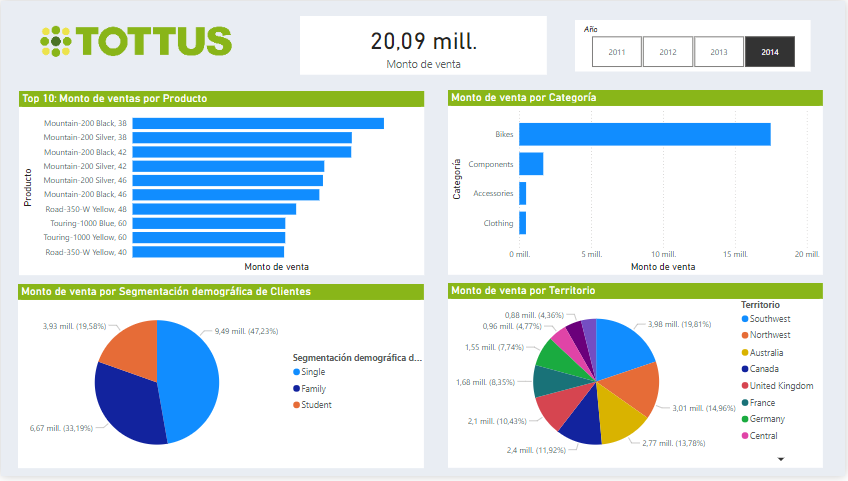

The page's visual inventory and layout, read from the dashboard file:
{"tool":"powerbi","page":{"name":"Página 1","canvas":[1280,720],"ordinal":0},"visuals":[{"type":"barChart","title":"Top 10: Monto de ventas por Producto","fields":{"Category":["DIM PRODUCTO DESTINO.Name"],"Y":["FACT VENTAS DESTINO.Sales Amount"]},"box":[26.9,136.1,613.7,279.2],"z":0},{"type":"pieChart","fields":{"Category":["DIM CLIENTE DESTINO.Demographic Segment"],"Y":["FACT VENTAS DESTINO.Sales Amount"]},"box":[25.5,428,615.1,279.2],"z":1000},{"type":"barChart","fields":{"Category":["DIM PRODUCTO DESTINO.Category Name"],"Y":["FACT VENTAS DESTINO.Sales Amount"]},"box":[676.9,135.4,567.7,280],"z":2000},{"type":"card","fields":{"Values":["FACT VENTAS DESTINO.Sales Amount"]},"box":[453.5,22.7,374.2,89.3],"z":3000},{"type":"pieChart","fields":{"Category":["DIM TERRITORIO DESTINO.Name"],"Y":["FACT VENTAS DESTINO.Sales Amount"]},"box":[677,428,568,280],"z":4000},{"type":"slicer","fields":{"Values":["DIM TIEMPO DESTINO.Year"]},"box":[870.2,28.3,357.2,78],"z":5000},{"type":"image","box":[53.8,16.9,300,89.2],"z":6000}]}

Visuals, with their boxes in screenshot pixels (x1, y1, x2, y2), scaled from the page's 1280x720 canvas onto the 848x481 screenshot:
"Top 10: Monto de ventas por Producto" barChart: 18/91/424/277
pieChart - DIM CLIENTE DESTINO.Demographic Segment x FACT VENTAS DESTINO.Sales Amount: 17/286/424/472
barChart - DIM PRODUCTO DESTINO.Category Name x FACT VENTAS DESTINO.Sales Amount: 448/90/825/278
card - FACT VENTAS DESTINO.Sales Amount: 300/15/548/75
pieChart - DIM TERRITORIO DESTINO.Name x FACT VENTAS DESTINO.Sales Amount: 449/286/825/473
slicer - DIM TIEMPO DESTINO.Year: 577/19/813/71
image: 36/11/234/71
